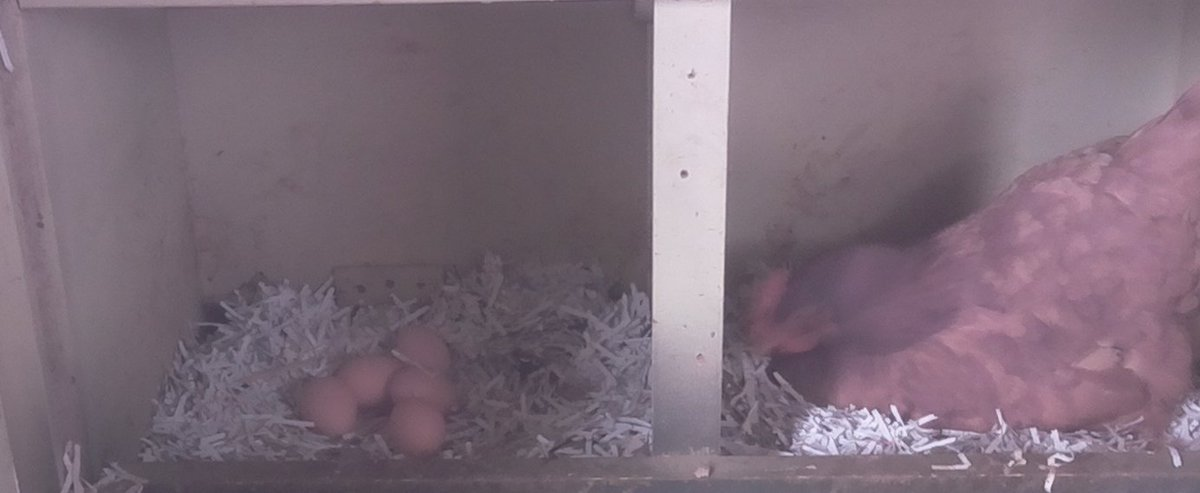egg: (290, 369, 362, 445), (330, 350, 401, 417), (386, 320, 462, 379), (384, 396, 453, 460), (384, 362, 467, 415)
hen: (745, 72, 1198, 445)
